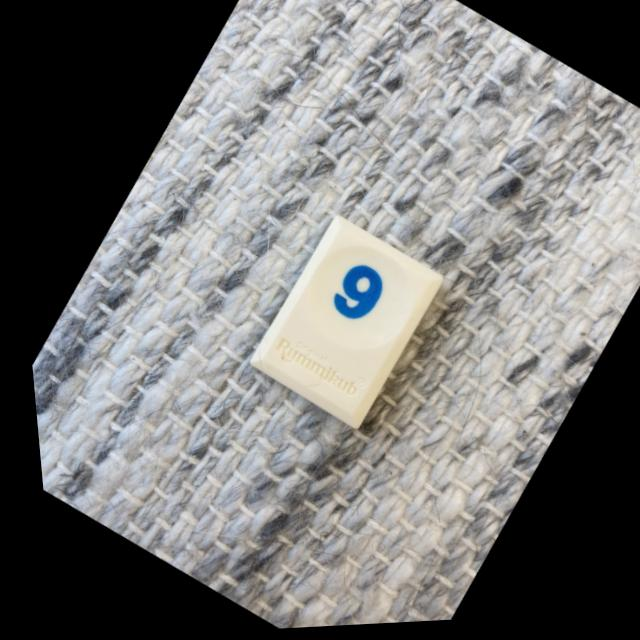blue_9: (243, 220, 437, 432)
